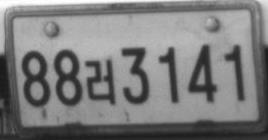1: (155, 46, 185, 103), (222, 44, 250, 101)
3: (120, 46, 149, 104)
4: (187, 43, 217, 103)
8: (20, 50, 51, 107), (53, 48, 83, 106)
러: (84, 58, 116, 105)
